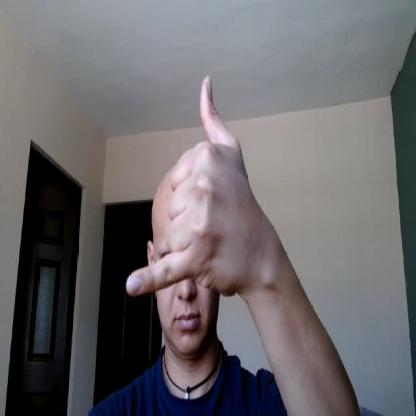Y: (125, 76, 250, 296)
